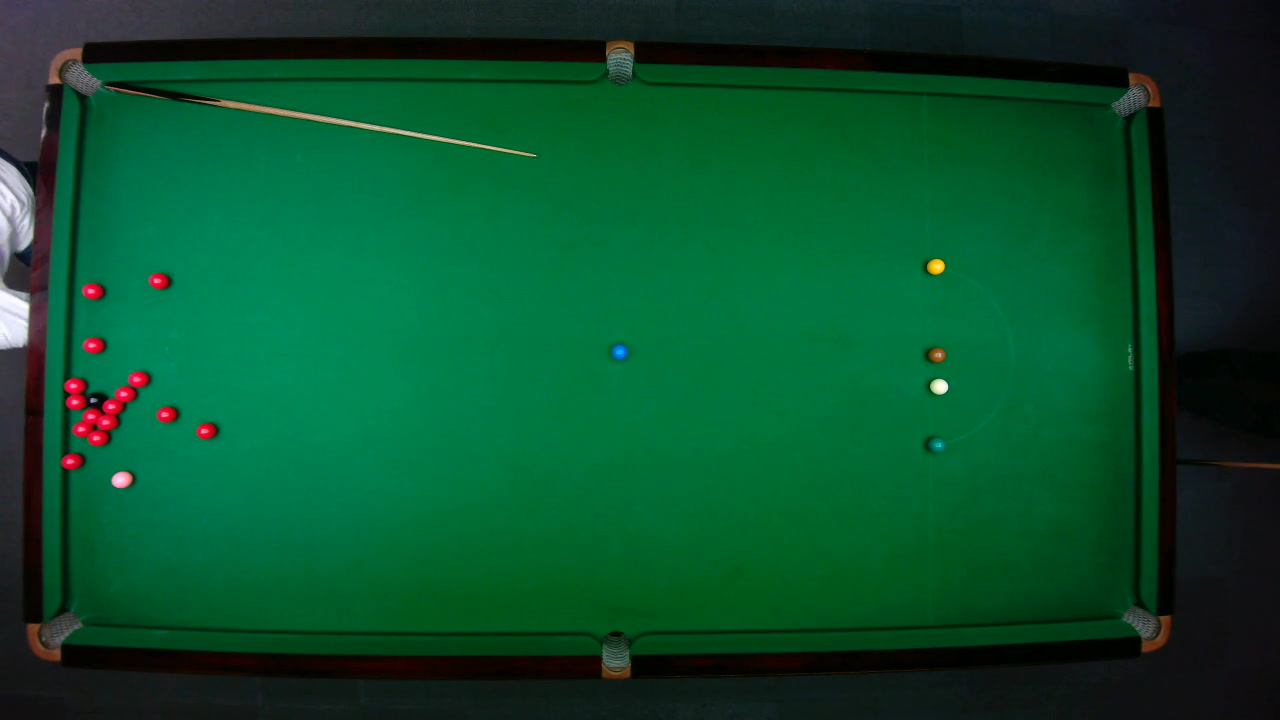bag: (25, 609, 84, 661), (45, 46, 101, 96), (1119, 603, 1171, 652), (1108, 72, 1161, 118), (600, 629, 630, 680), (605, 38, 633, 85)
black: (84, 391, 109, 409)
blue: (610, 342, 628, 360)
brown: (926, 346, 946, 362)
cue: (100, 82, 544, 159)
green: (926, 435, 946, 453)
pink: (109, 469, 133, 489)
red: (85, 428, 111, 447), (80, 407, 104, 427), (80, 335, 105, 354), (80, 281, 104, 300), (61, 376, 86, 394), (59, 451, 83, 469), (154, 404, 177, 422), (126, 370, 149, 388), (147, 271, 170, 289), (194, 421, 217, 439), (100, 397, 124, 414), (114, 385, 138, 402), (70, 419, 92, 437), (95, 413, 118, 430), (63, 393, 87, 409)
white: (928, 377, 948, 395)
yellow: (925, 257, 945, 275)
zone: (926, 266, 1013, 444)
